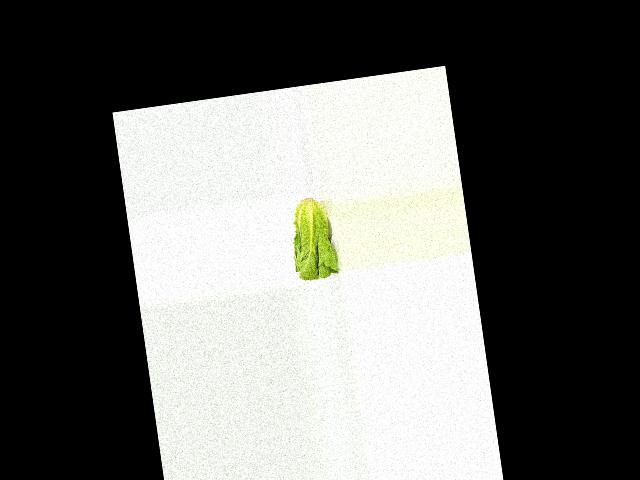lettuce: (284, 194, 340, 282)
